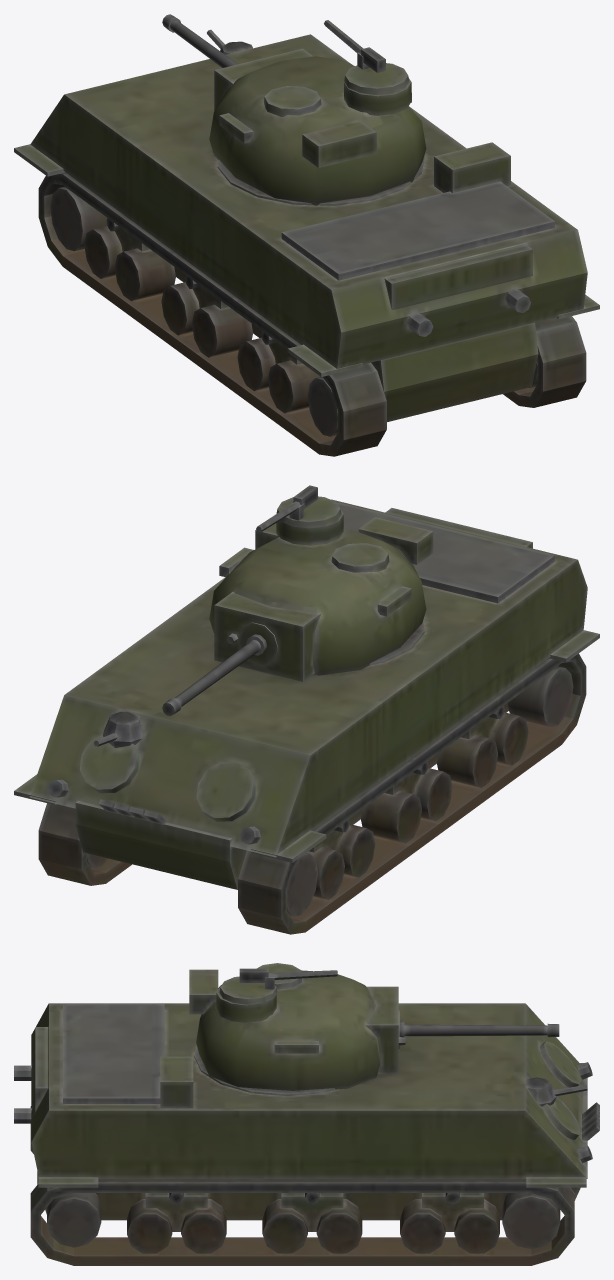
File: sherman_baked.glb
3 views of the same model, one above another, from view 1: azimuth 30°, elevation 25°; view 2: azimuth 150°, elevation 25°; view 3: azimuth 270°, elevation 25° (orthographic). The views are drawn at different scales.
Visible parts, largest first — view 1: sherman, turret, hatch, barrel; view 2: sherman, turret, barrel, hatch; view 3: sherman, turret, barrel, hatch.
Part boxes in pixels (x1,y1,x2,y2): sherman: [14, 29, 599, 456]; turret: [209, 20, 426, 205]; hatch: [344, 63, 409, 94]; barrel: [162, 14, 237, 67]; sherman: [14, 499, 599, 934]; turret: [209, 485, 433, 681]; barrel: [162, 634, 267, 716]; hatch: [276, 496, 341, 528]; sherman: [14, 1003, 599, 1265]; turret: [189, 963, 405, 1090]; barrel: [399, 1021, 559, 1037]; hatch: [219, 976, 277, 1004].
Bounding box in the file's own units: 2.96 × 2.93 × 6.05.
Materials: 1 (1 with a texture image).
